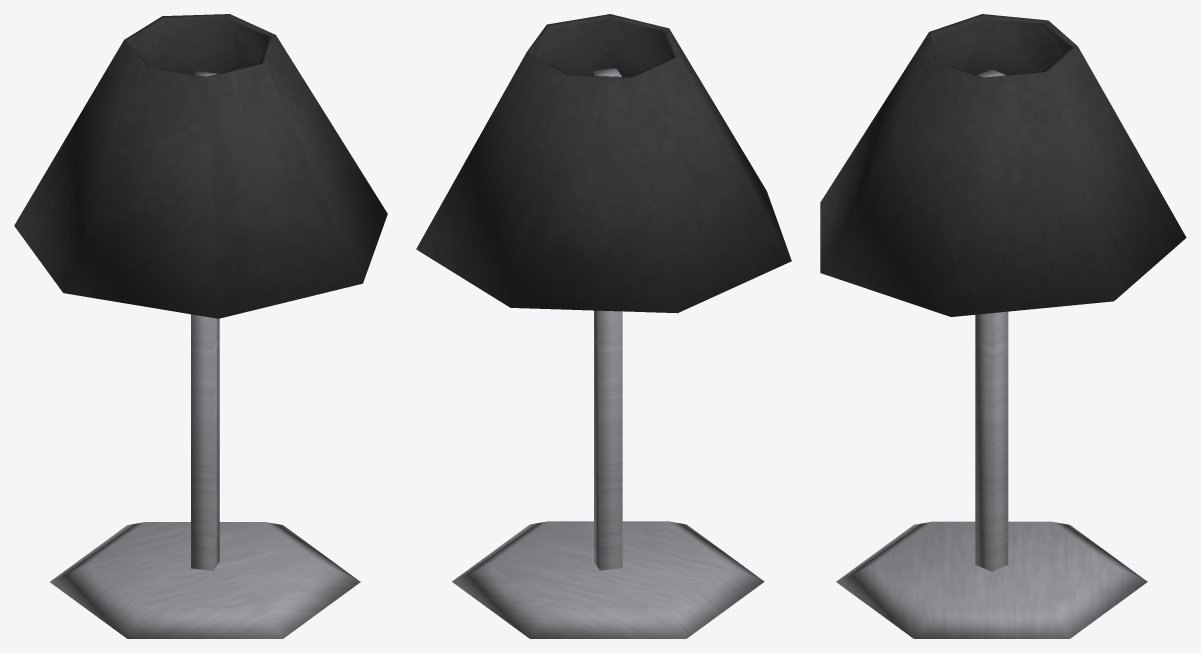
The model's file is Bedside Lamp.fbx.
3 views of the same model, side by side, from view 1: azimuth 30°, elevation 25°; view 2: azimuth 150°, elevation 25°; view 3: azimuth 270°, elevation 25° (orthographic).
Parts seen in each view (by area): view 1: Lamps; view 2: Lamps; view 3: Lamps.
Boxes of the visible parts, left/top/right/bottom form: Lamps: left=14, top=14, right=387, bottom=638; Lamps: left=416, top=14, right=791, bottom=638; Lamps: left=820, top=14, right=1186, bottom=638.
Bounding box in the file's own units: 40.71 × 64.05 × 39.69.
2 materials, 2 textured.
